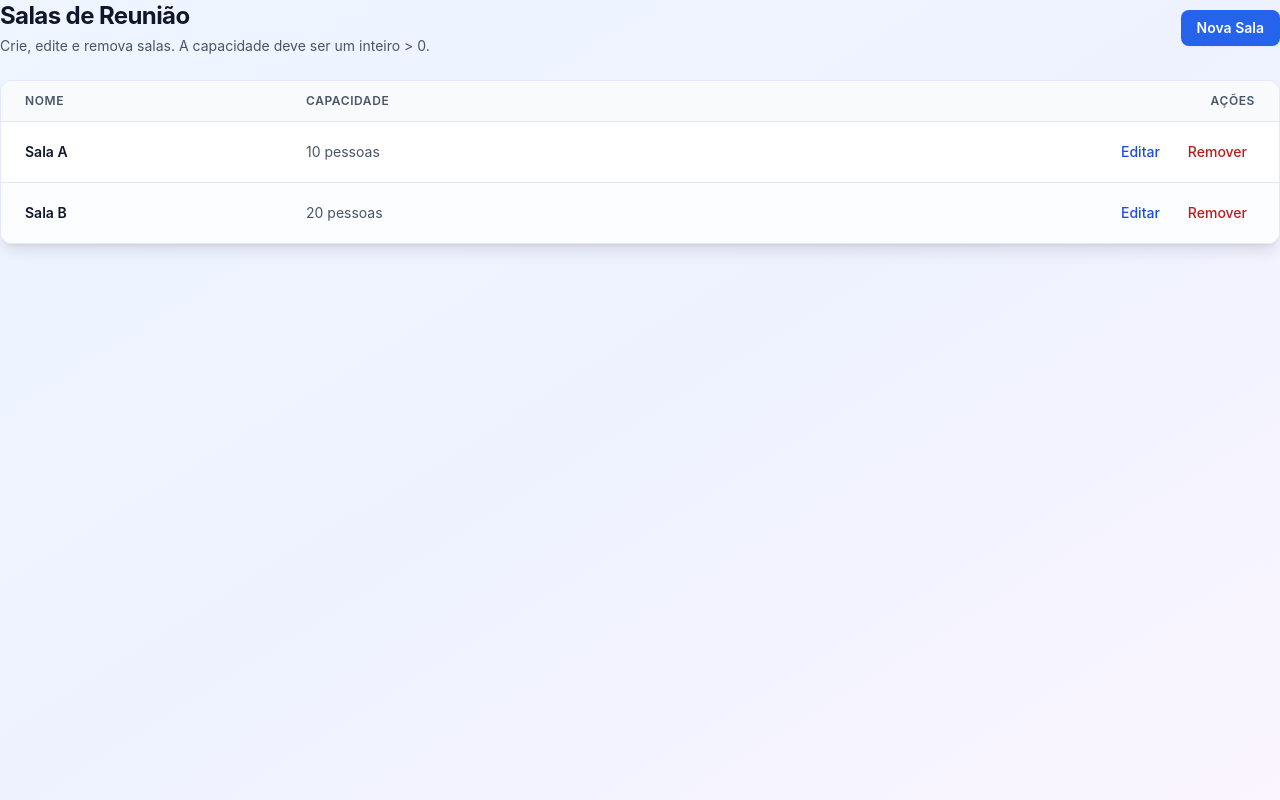
Test case: Testes Frontend - Gerenciar Salas › Deve exibir erro quando criação falha
Click the button "Nova Sala".
click(1230, 28)  # box [1181,10,1279,46]
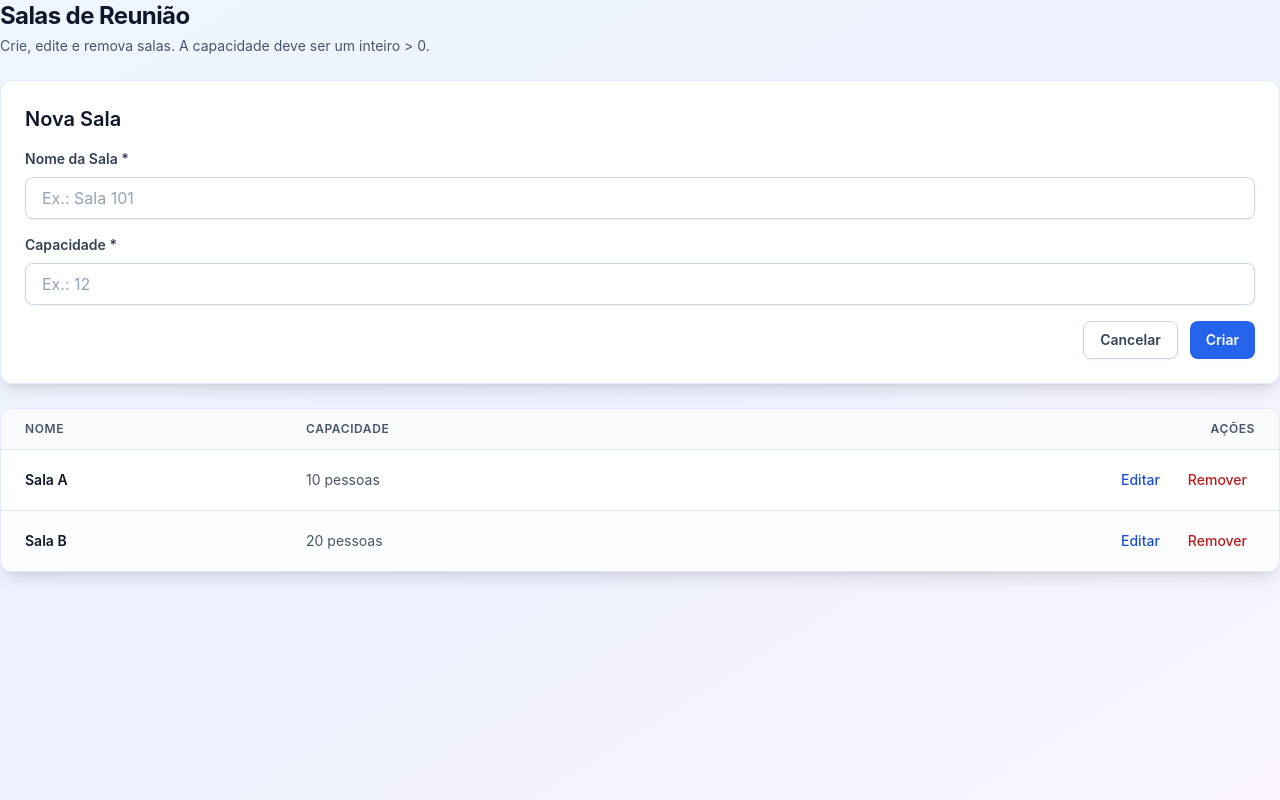
Type "Sala A" into the field labelled "Nome da Sala *".
click(640, 198); type("Sala A")  # box [25,177,1255,219]
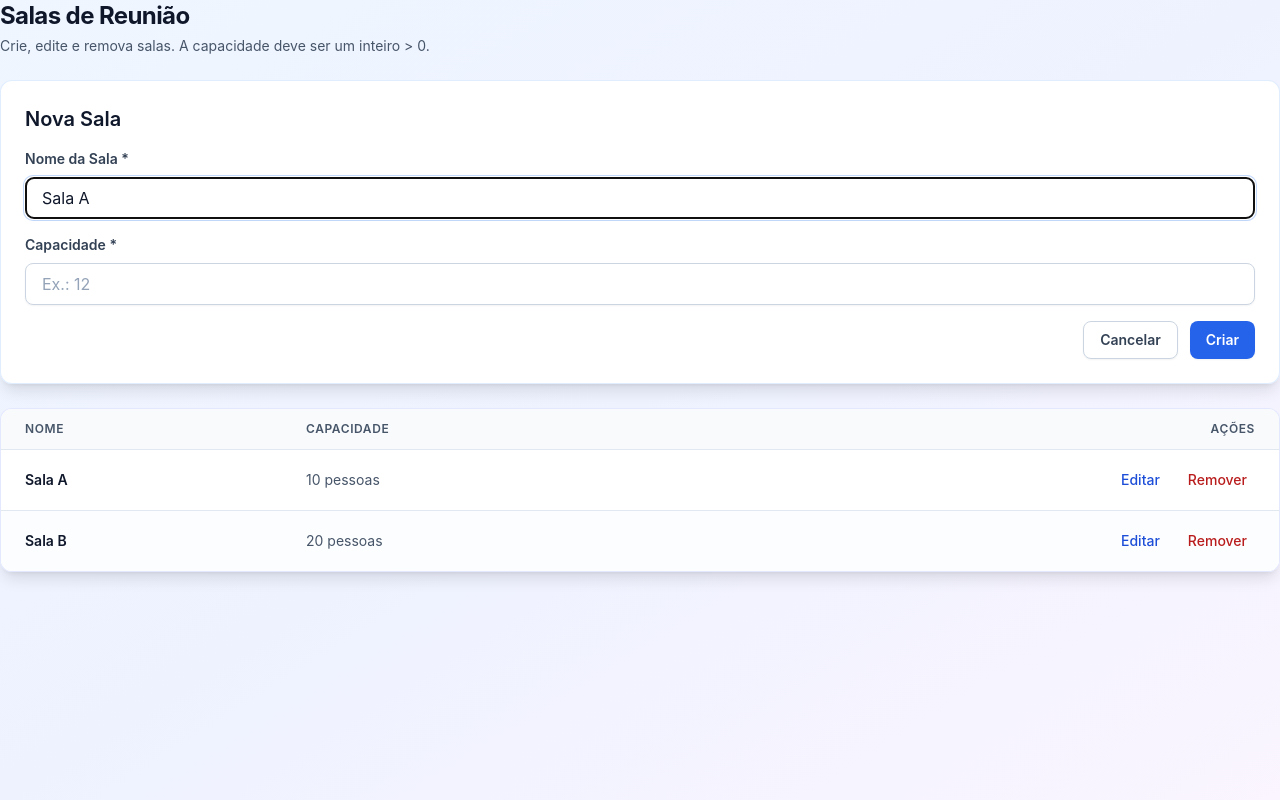
Type "10" into the number field labelled "Capacidade *".
click(640, 284); type("10")  # box [25,263,1255,305]
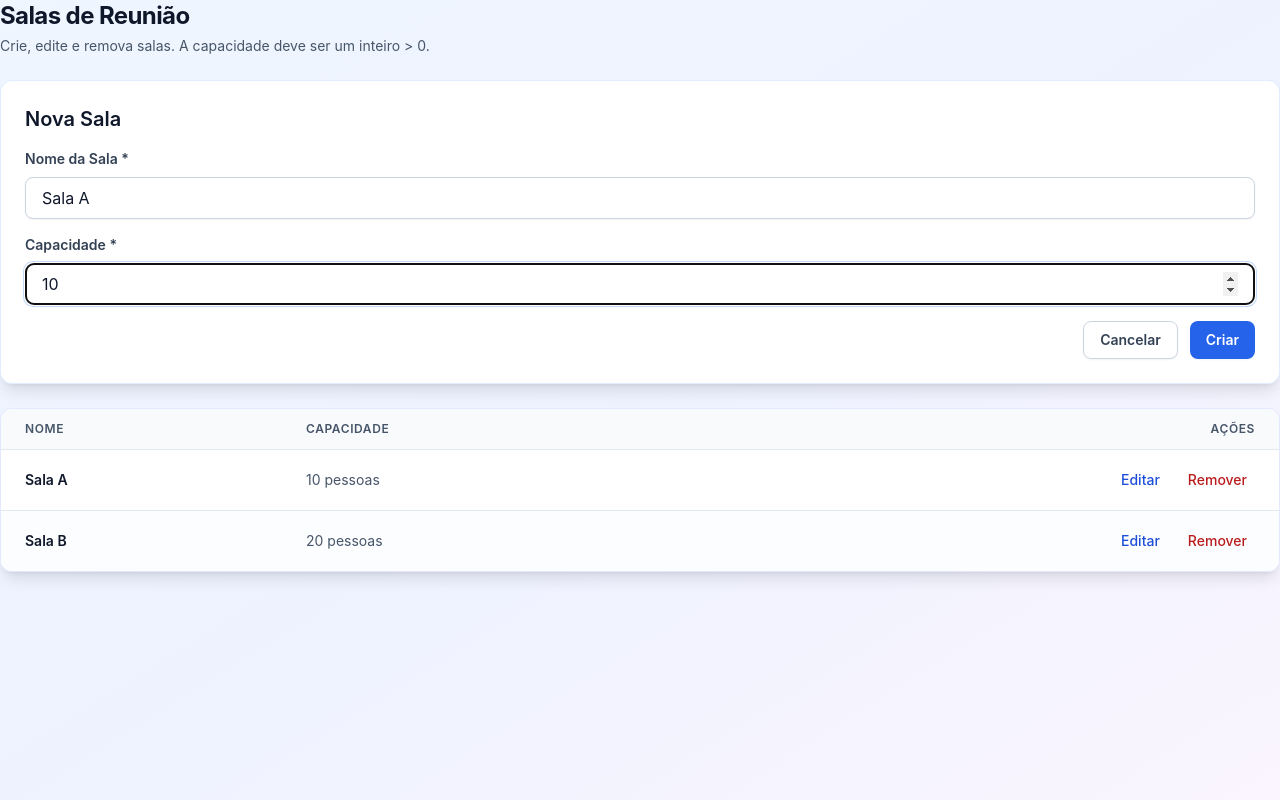
Click the button "Criar".
click(1222, 340)  # box [1190,321,1255,359]
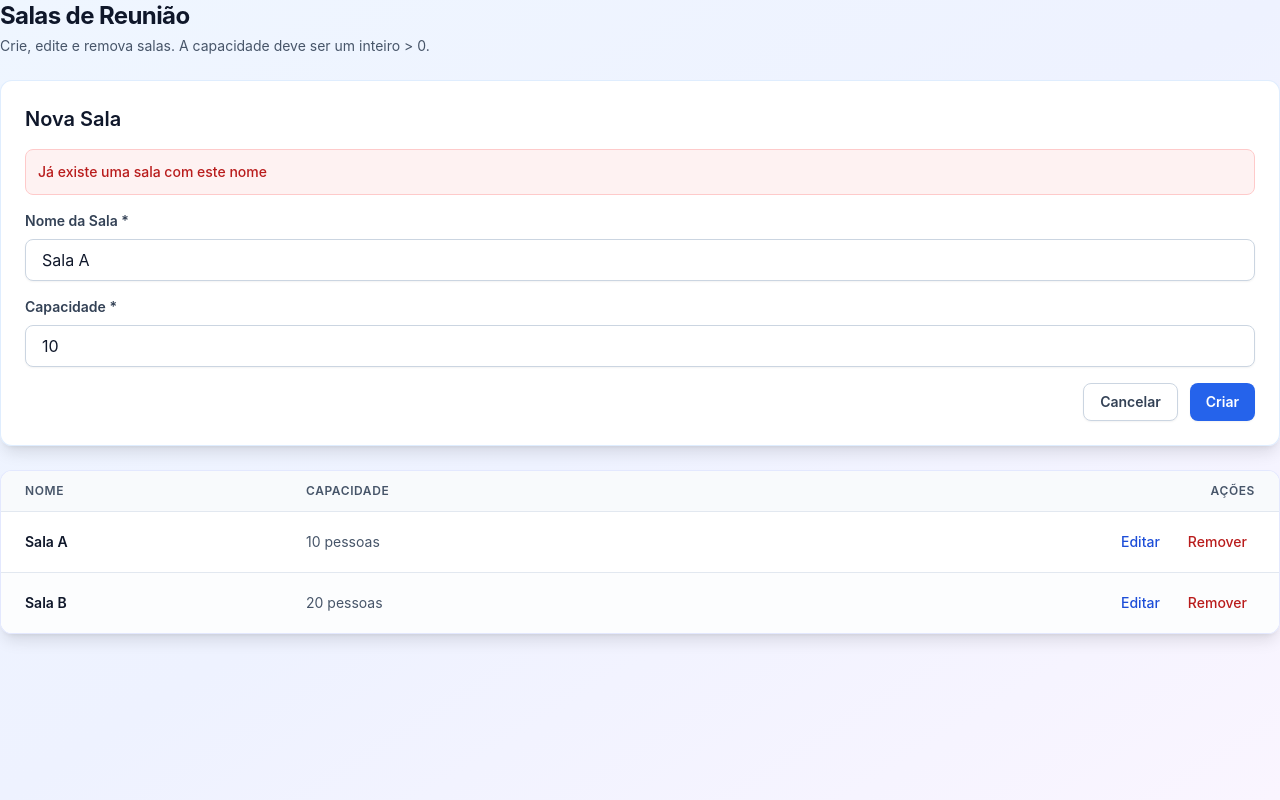
Now the text "Já existe uma sala com este nome" is shown, box [25,149,1255,195]
